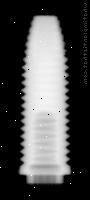Nobel Biocare: (19, 14, 72, 184)
